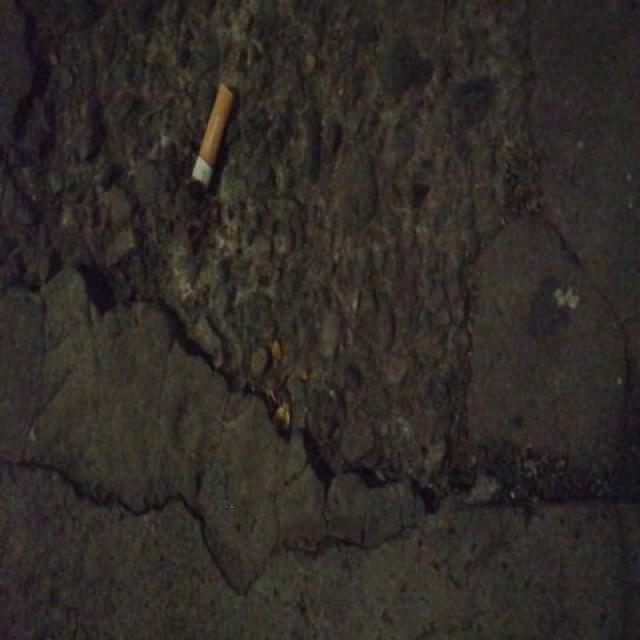non-organic waste: (188, 77, 239, 191)
